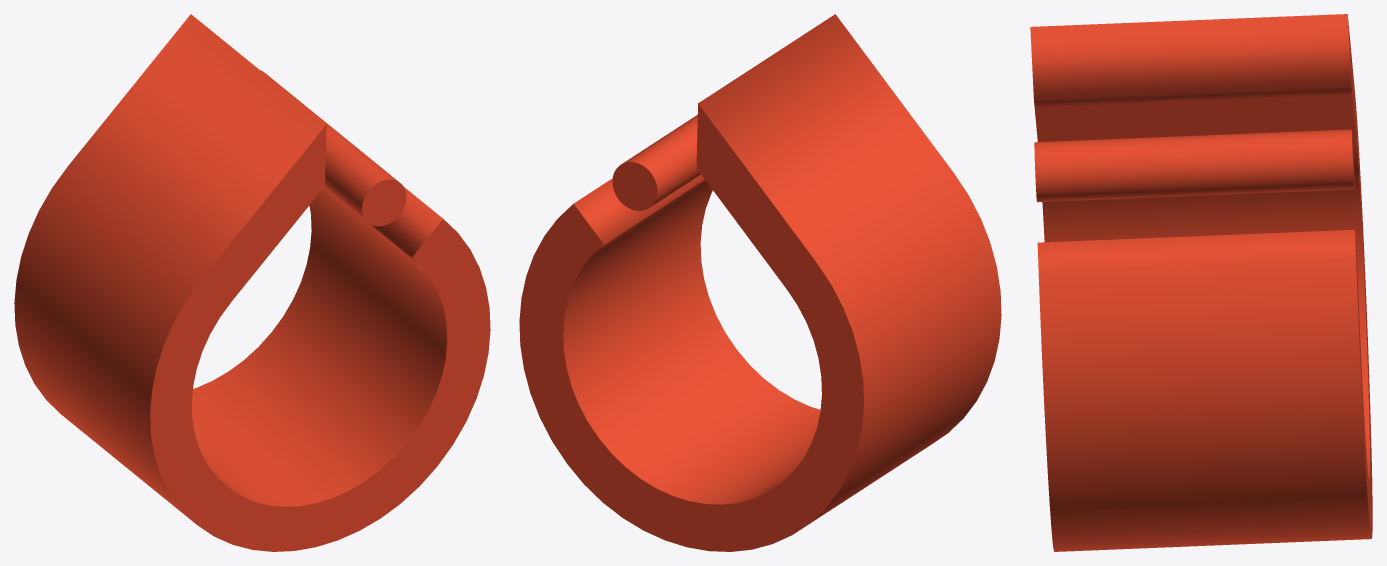
File: PyTorch.glb
The picture shows the model from 3 angles, left to right: view 1: azimuth 30°, elevation 25°; view 2: azimuth 150°, elevation 25°; view 3: azimuth 270°, elevation 25°; orthographic projection. The views are drawn at different scales.
Visible parts, largest first — view 1: Curve.001; view 2: Curve.001; view 3: Curve.001.
Part boxes in pixels (left/top/right/bottom): Curve.001: left=14, top=14, right=490, bottom=551; Curve.001: left=519, top=14, right=1001, bottom=551; Curve.001: left=1030, top=14, right=1372, bottom=551.
Size of the model in its own units: 0.0289 by 0.0359 by 0.0216.
